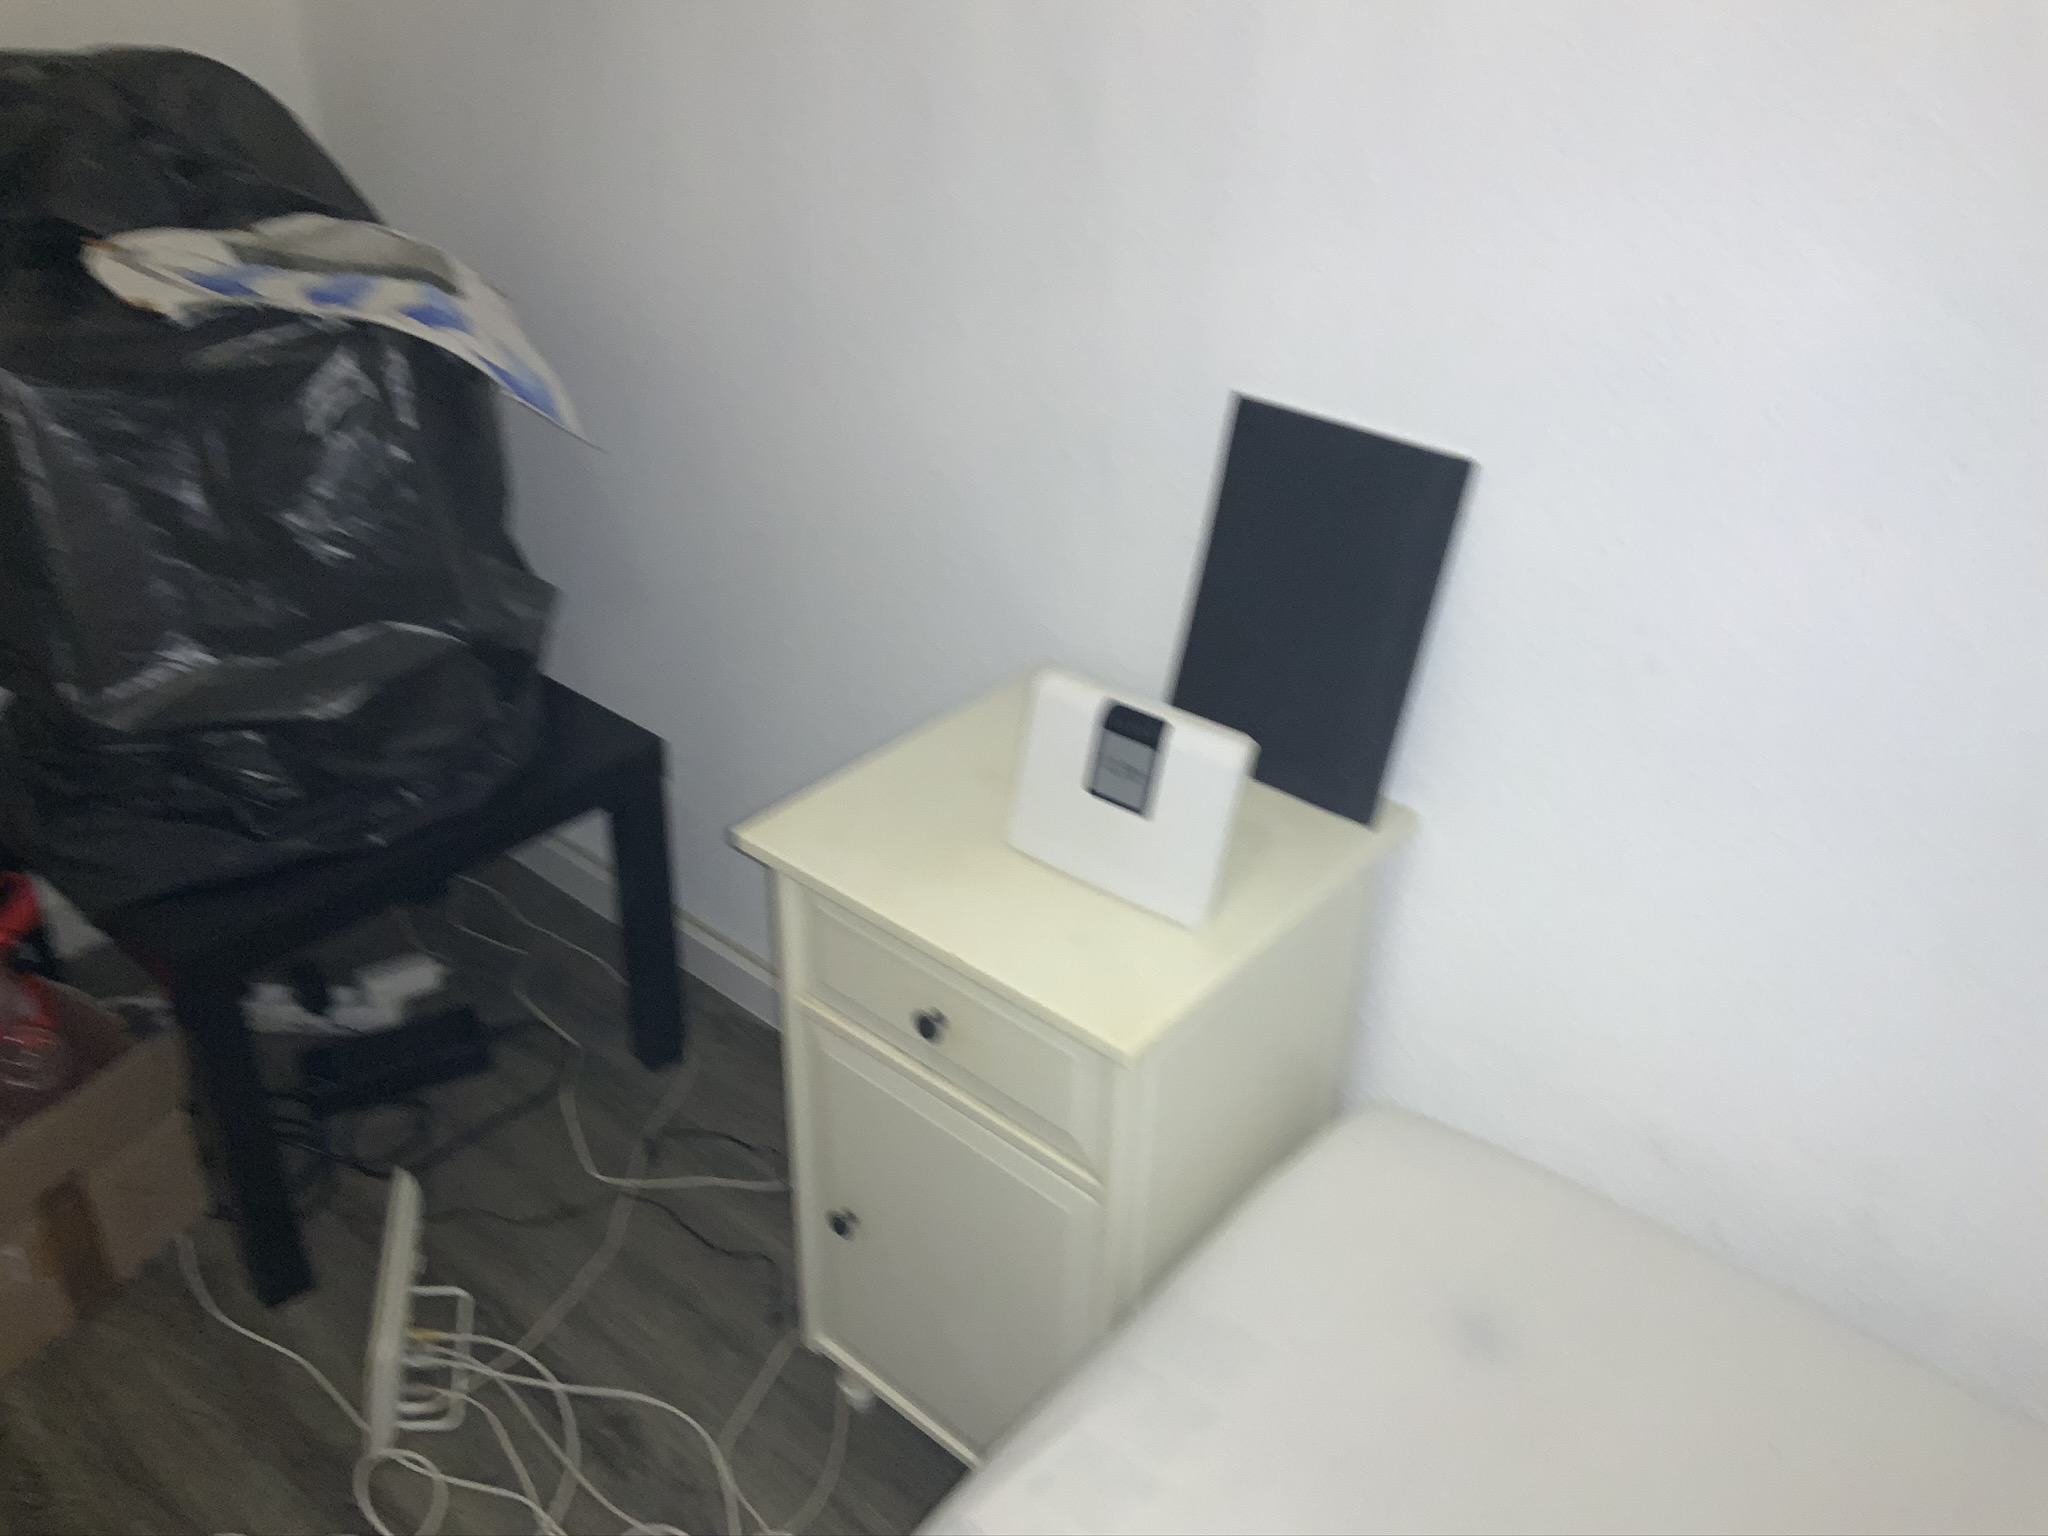Router2: (1000, 660, 1268, 937)
